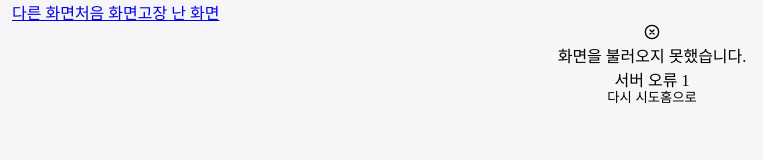
Test: RouteErrorBoundary › 홈('/')에서 실패해도 '홈으로'를 누르면 다시 요청한다
Expected: the heading "화면을 불러오지 못했습니다." is shown, [558,43,746,67]
Click the button "홈으로" at (678, 98), box [660,91,697,104]
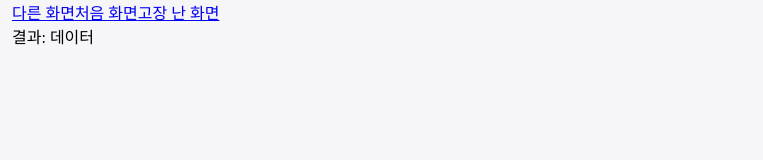
Expected: the text "결과: 데이터" is shown, [12,29,94,46]
